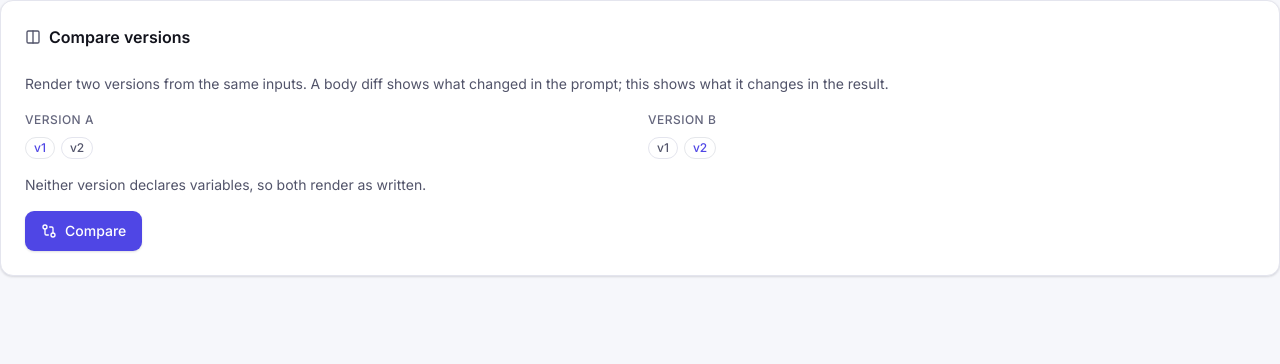
PromptComparison › surfaces a render failure
Click the button with test id "compare-submit" at (84, 231), box 25,211 -> 142,251
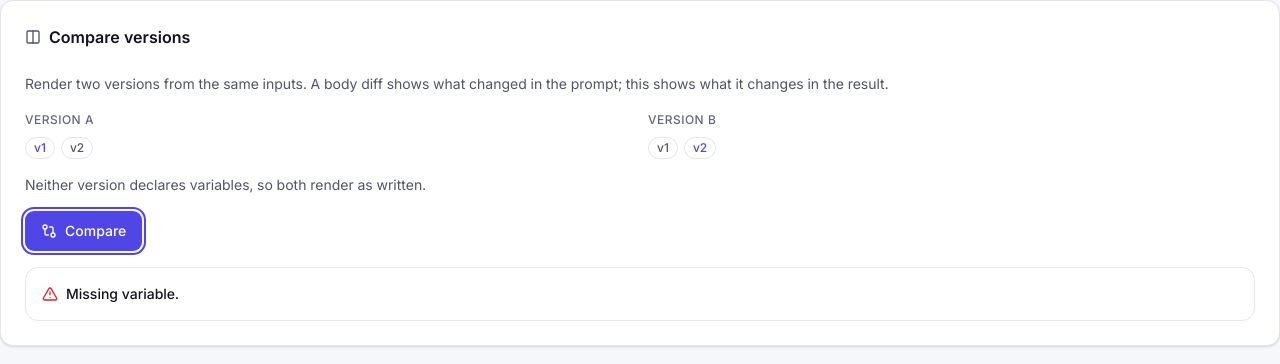
expect the element with test id "compare-error" is shown: met, box 25,267 -> 1255,321
